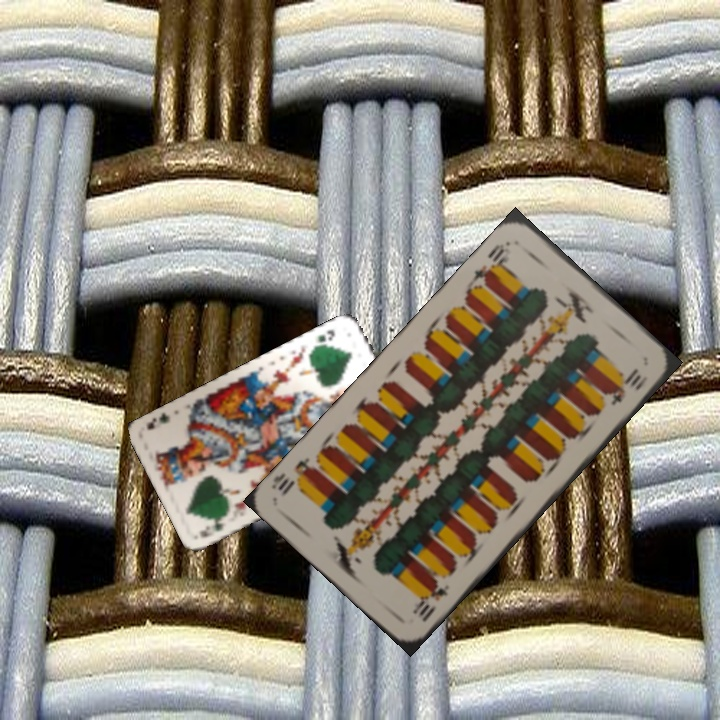E10: (468, 237, 514, 288), (408, 577, 453, 625)
GK: (195, 512, 231, 540), (311, 325, 338, 352)
